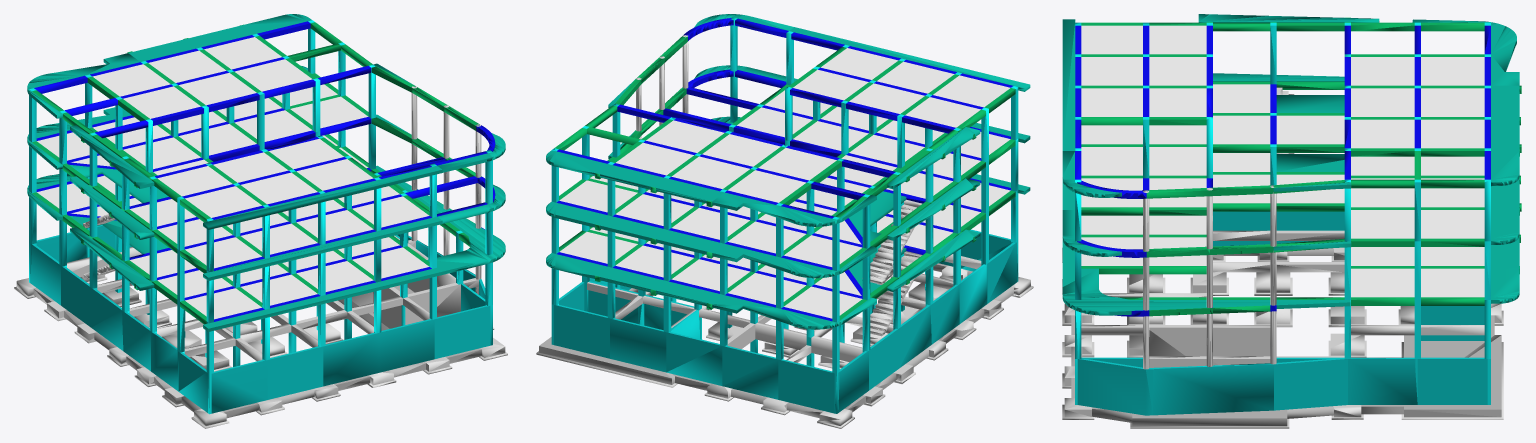
Rendered from Djanet_gc.glb.
3 renders of one model, left to right at view 1: azimuth 30°, elevation 25°; view 2: azimuth 150°, elevation 25°; view 3: azimuth 270°, elevation 25°, orthographic. The views are drawn at different scales.
Parts seen in each view (by area): view 1: Villa_gc 01; view 2: Villa_gc 01; view 3: Villa_gc 01.
Boxes of the visible parts, x1,y1,x2,y2 form: Villa_gc 01: (14, 14, 507, 428); Villa_gc 01: (536, 14, 1033, 428); Villa_gc 01: (1062, 14, 1521, 428).
Bounding box in the file's own units: 20.39 × 12.08 × 21.65.
